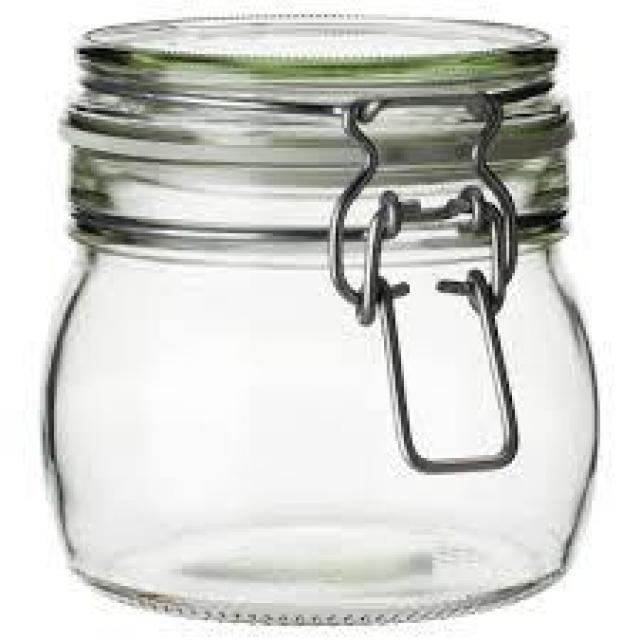non-organic waste: (33, 11, 613, 632)
